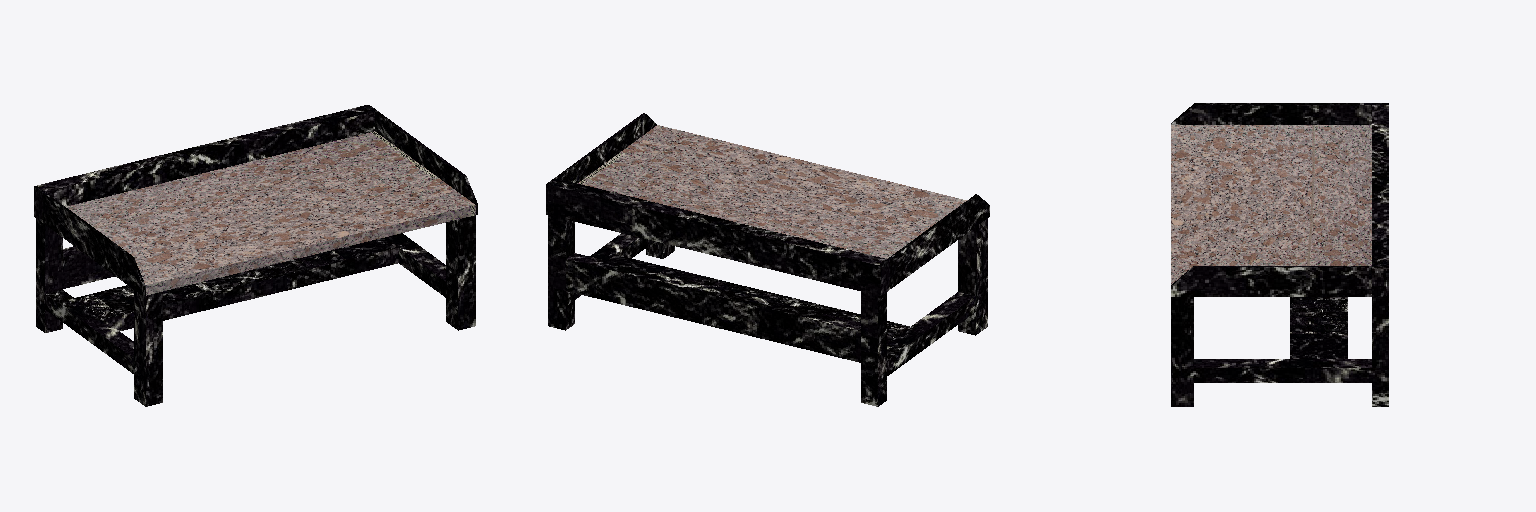
3 renders of one model, left to right at view 1: azimuth 30°, elevation 25°; view 2: azimuth 150°, elevation 25°; view 3: azimuth 270°, elevation 25°, orthographic.
Parts seen in each view (by area): view 1: table2:Mesh; view 2: table2:Mesh; view 3: table2:Mesh.
Boxes of the visible parts, <box> form: table2:Mesh: <box>34,105,477,406</box>; table2:Mesh: <box>546,113,989,406</box>; table2:Mesh: <box>1171,103,1388,406</box>.
Bounding box in the file's own units: 0.6648 × 0.2681 × 0.3753.
Materials: 3 (2 with a texture image).